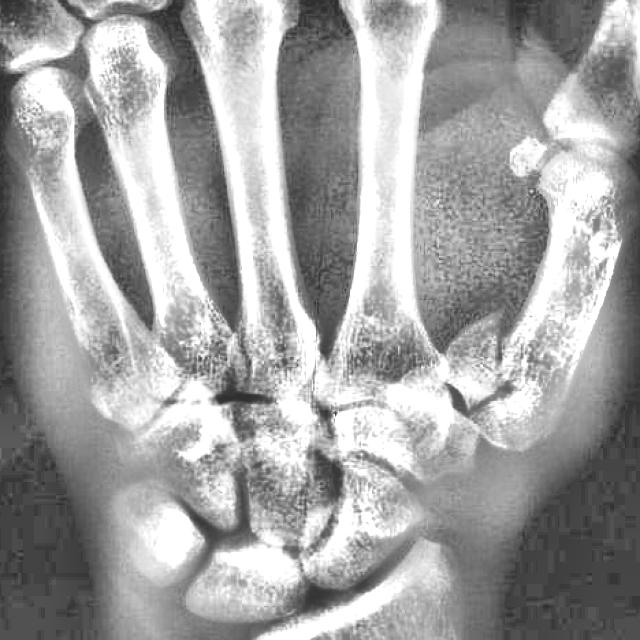fracture: (432, 313, 518, 427)
